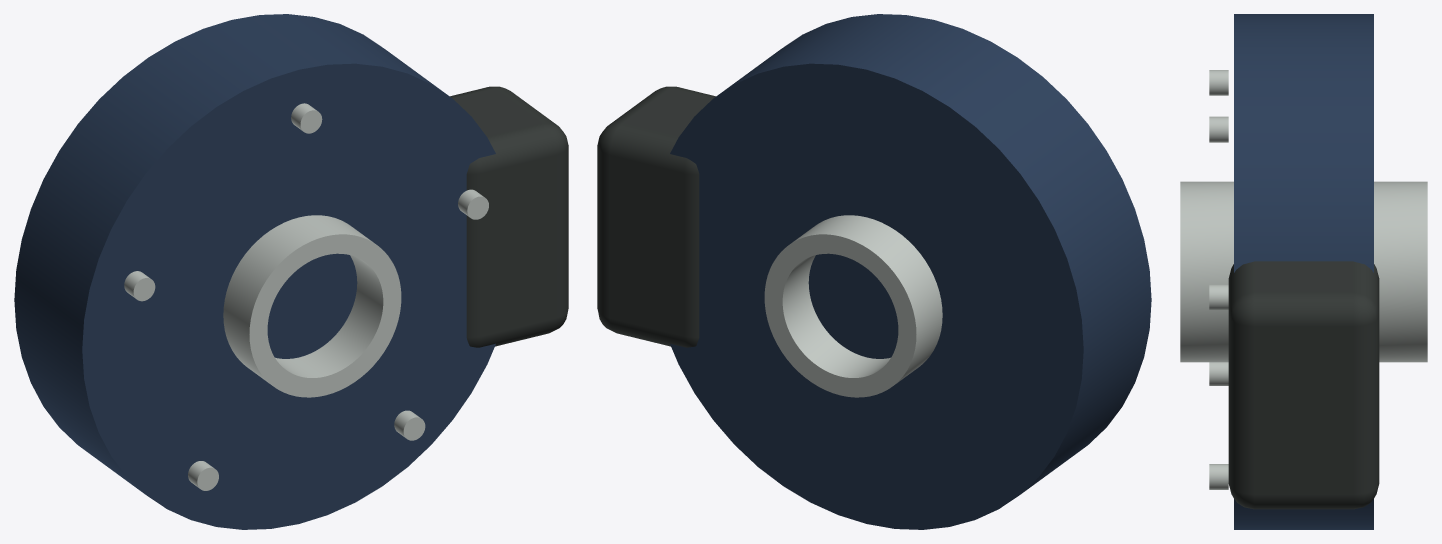
Rendered from planetarium-and-optical-observatory-filter-wheel-e99855a3__31856.glb.
3 renders of one model, left to right at view 1: azimuth 30°, elevation 25°; view 2: azimuth 150°, elevation 25°; view 3: azimuth 270°, elevation 25°, orthographic. The views are drawn at different scales.
Visible parts, largest first — view 1: filter-wheel; view 2: filter-wheel; view 3: filter-wheel.
Part boxes in pixels (bbox=[...]): filter-wheel: bbox=[14, 14, 568, 529]; filter-wheel: bbox=[597, 14, 1151, 529]; filter-wheel: bbox=[1180, 14, 1427, 529].
Bounding box in the file's own units: 0.2725 × 0.24 × 0.115.
